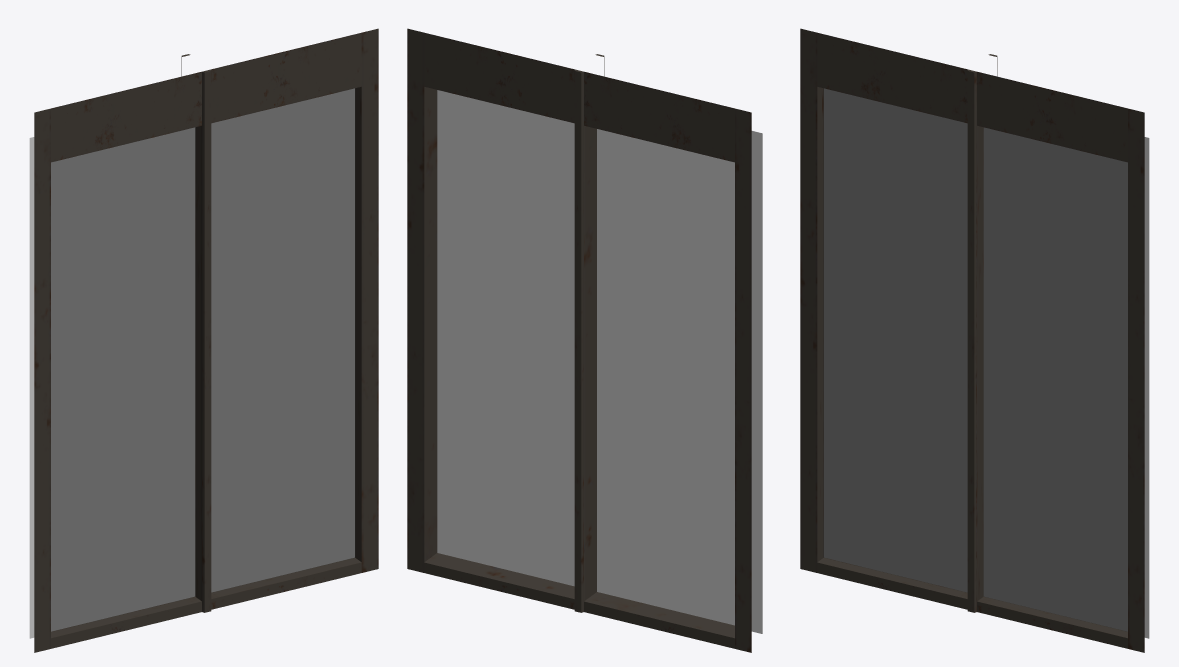
Rendered from metal_fullwindow.glb.
3 renders of one model, left to right at view 1: azimuth 30°, elevation 25°; view 2: azimuth 150°, elevation 25°; view 3: azimuth 330°, elevation 25°, orthographic.
Parts seen in each view (by area): view 1: Metal_FullWindow; view 2: Metal_FullWindow; view 3: Metal_FullWindow.
Part boxes in pixels (<box>): Metal_FullWindow: <box>29,28,378,652</box>; Metal_FullWindow: <box>407,28,762,652</box>; Metal_FullWindow: <box>800,28,1149,652</box>.
Size of the model in its own units: 2 by 3 by 0.2311.
3 materials, 1 textured.
